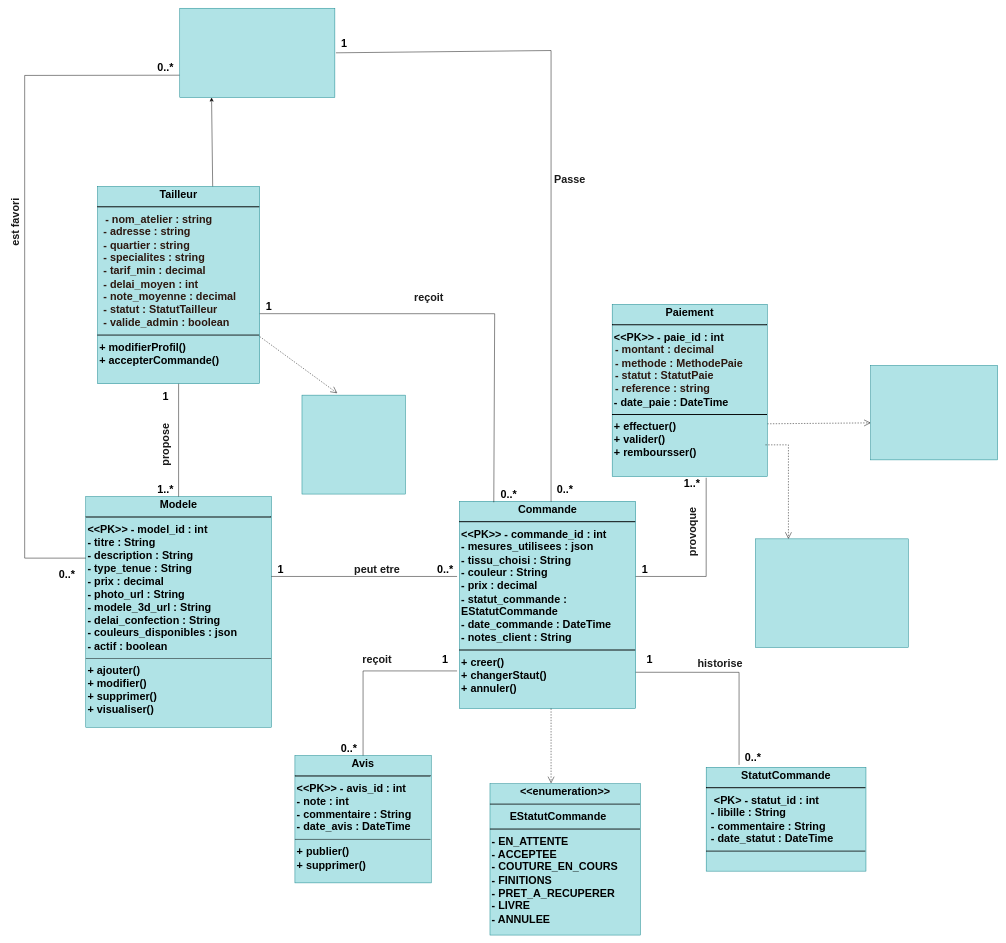
Image size: 1006x943. Some labels were removed from this diagram. Here are the shapes that lost their labels. From the top down, the centre of each, then its label:
At point 257,53: "Utilisateur <<PK>> - user_id : int".
At point 934,412: "<<enumeration>> MethodePaie - MOBILE_MONEY - CARTE_BANCAIRE".
At point 353,444: "<<enumeration>> StatutTailleur -ACTIF -EN_CONGE -SUSPENDU".
At point 831,592: "<<enumeration>> StatutPaie - EN_ATTENTE - VALIDE - ECHOUE - REMBOURSE".
